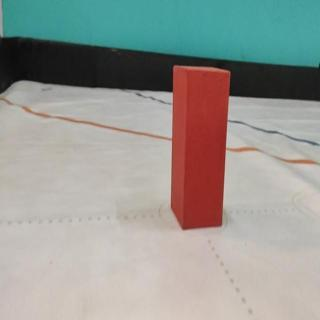redbox: (173, 67, 226, 227)
